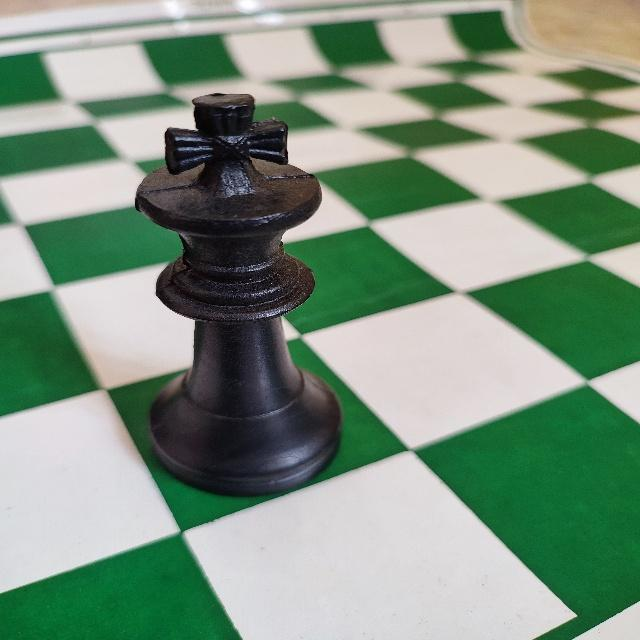King: (127, 90, 347, 498)
